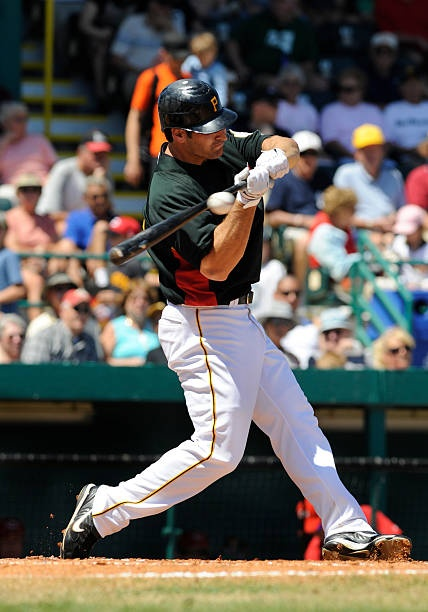bita: (106, 170, 252, 264)
